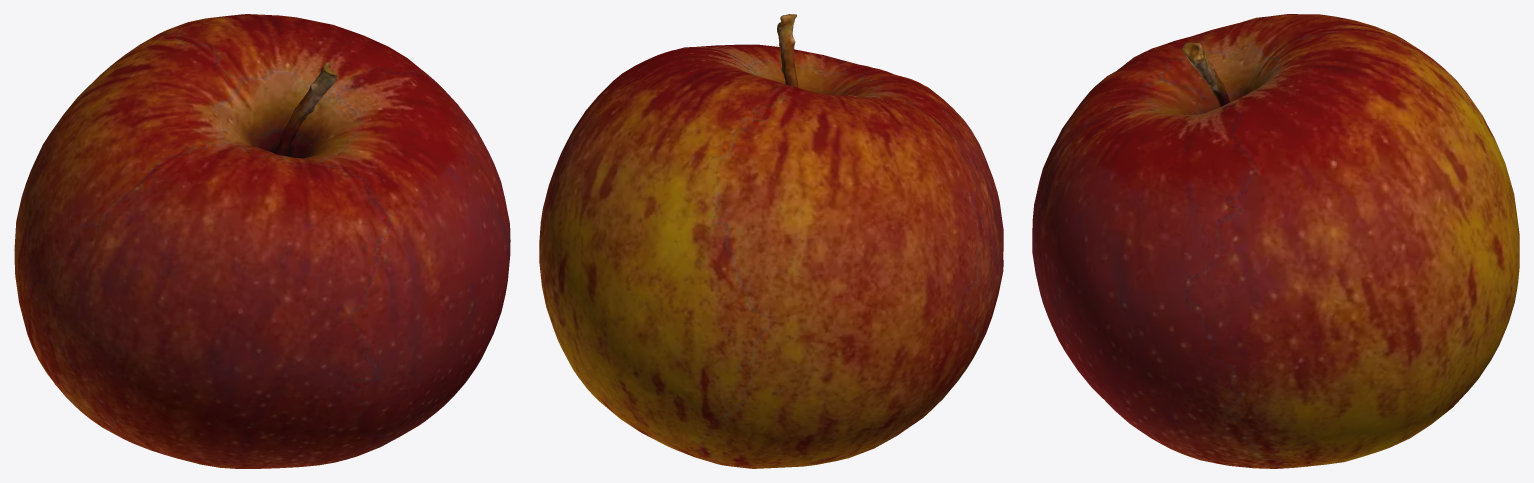
Rendered from food_apple_01.glb.
The picture shows the model from 3 angles, left to right: view 1: azimuth 30°, elevation 25°; view 2: azimuth 150°, elevation 25°; view 3: azimuth 270°, elevation 25°; orthographic projection. The views are drawn at different scales.
Visible parts, largest first — view 1: food_apple_01; view 2: food_apple_01; view 3: food_apple_01.
Boxes of the visible parts, left/top/right/bottom form: food_apple_01: left=14, top=14, right=510, bottom=468; food_apple_01: left=539, top=14, right=1003, bottom=468; food_apple_01: left=1032, top=14, right=1519, bottom=468.
Bounding box in the file's own units: 0.0976 × 0.0854 × 0.0959.
1 material, 1 textured.
